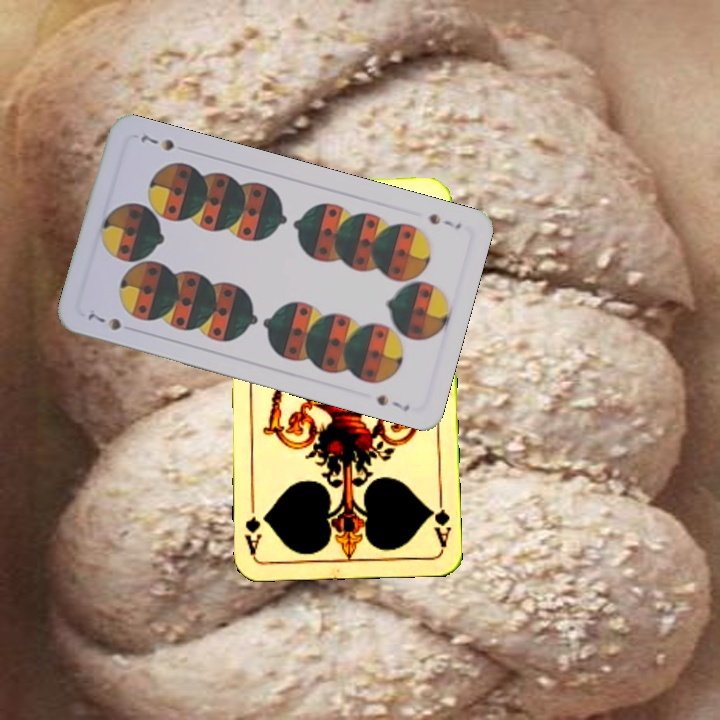GA: (425, 491, 453, 550)
S7: (83, 309, 124, 333), (425, 209, 464, 232)
